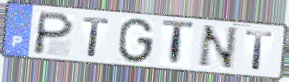G: (116, 17, 156, 65)
N: (195, 23, 240, 71)
P: (30, 10, 76, 57)
T: (161, 18, 197, 69), (244, 29, 275, 72), (81, 15, 111, 59)
